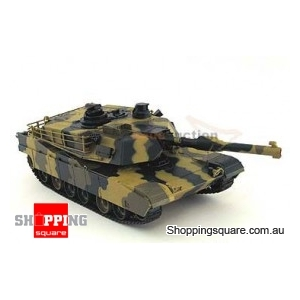Battle Tank: (15, 100, 285, 217)
